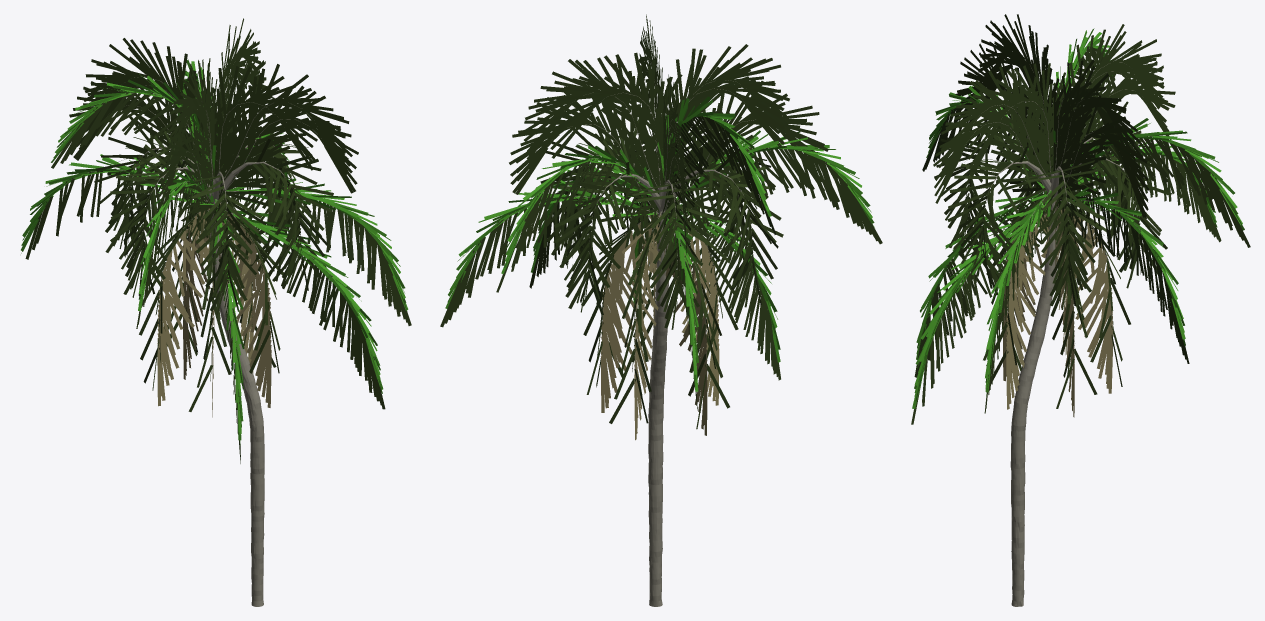
The model's file is Palm-arecaceae.obj.
3 views of the same model, side by side, from view 1: azimuth 30°, elevation 25°; view 2: azimuth 150°, elevation 25°; view 3: azimuth 270°, elevation 25° (orthographic). The views are drawn at different scales.
Visible parts, largest first — view 1: plant_pmat6.001, plant_pmat3.001, plant_pmat11.001, plant_pmat4.001, plant_pmat8.001, plant_pmat9.001, plant_pmat1.001, plant_pmat10.001, plant_pmat5.001; view 2: plant_pmat6.001, plant_pmat3.001, plant_pmat11.001, plant_pmat4.001, plant_pmat8.001, plant_pmat9.001, plant_pmat1.001, plant_pmat10.001; view 3: plant_pmat6.001, plant_pmat3.001, plant_pmat11.001, plant_pmat4.001, plant_pmat8.001, plant_pmat1.001, plant_pmat9.001, plant_pmat10.001, plant_pmat5.001.
Boxes of the visible parts, left/top/right/bottom form: plant_pmat6.001: left=69, top=18, right=358, bottom=243; plant_pmat3.001: left=25, top=77, right=411, bottom=463; plant_pmat11.001: left=94, top=109, right=333, bottom=314; plant_pmat4.001: left=21, top=59, right=408, bottom=445; plant_pmat8.001: left=157, top=203, right=271, bottom=417; plant_pmat9.001: left=139, top=201, right=283, bottom=411; plant_pmat1.001: left=210, top=179, right=264, bottom=606; plant_pmat10.001: left=129, top=140, right=299, bottom=240; plant_pmat5.001: left=126, top=75, right=321, bottom=206; plant_pmat6.001: left=509, top=14, right=828, bottom=254; plant_pmat3.001: left=440, top=115, right=882, bottom=410; plant_pmat11.001: left=536, top=104, right=783, bottom=329; plant_pmat4.001: left=445, top=96, right=874, bottom=391; plant_pmat8.001: left=600, top=211, right=719, bottom=440; plant_pmat9.001: left=581, top=216, right=738, bottom=429; plant_pmat1.001: left=648, top=187, right=668, bottom=606; plant_pmat10.001: left=586, top=136, right=751, bottom=267; plant_pmat6.001: left=933, top=14, right=1175, bottom=226; plant_pmat3.001: left=911, top=46, right=1250, bottom=424; plant_pmat11.001: left=934, top=101, right=1171, bottom=309; plant_pmat4.001: left=912, top=28, right=1244, bottom=408; plant_pmat8.001: left=1003, top=201, right=1113, bottom=417; plant_pmat1.001: left=1010, top=174, right=1057, bottom=606; plant_pmat9.001: left=983, top=203, right=1130, bottom=408; plant_pmat10.001: left=968, top=137, right=1139, bottom=234; plant_pmat5.001: left=974, top=59, right=1133, bottom=200.
Bounding box in the file's own units: 1.66 × 2.89 × 1.59.
